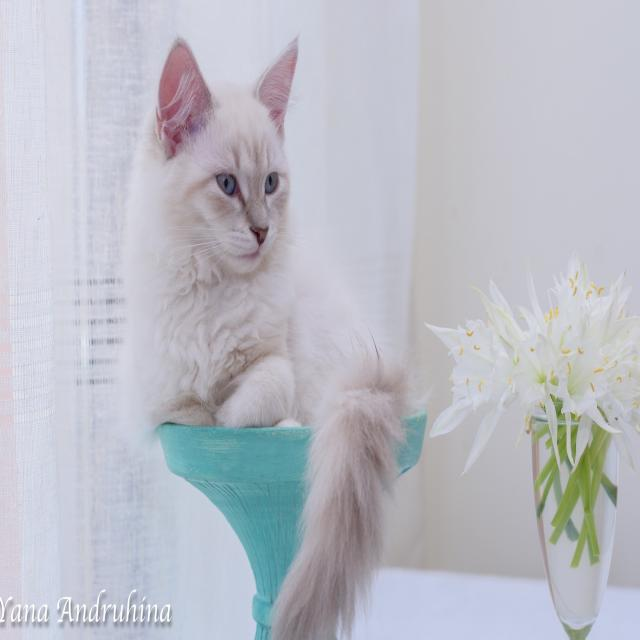Neva Masquerade: (110, 21, 412, 640)
